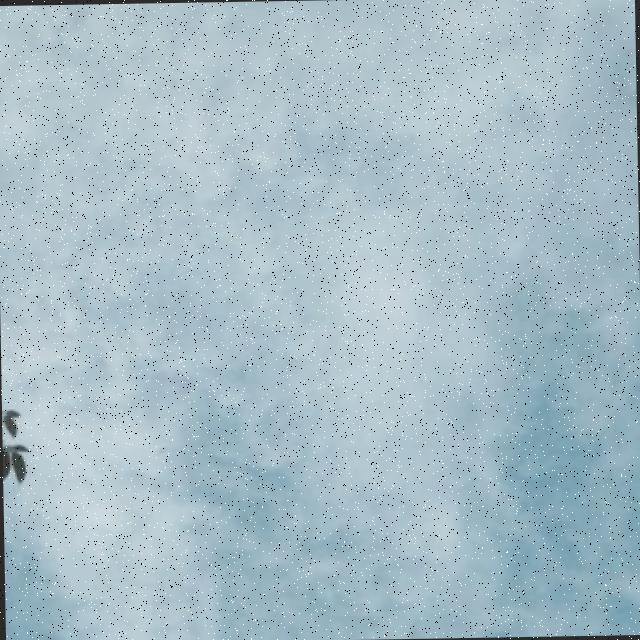Cc: (1, 1, 639, 286)
